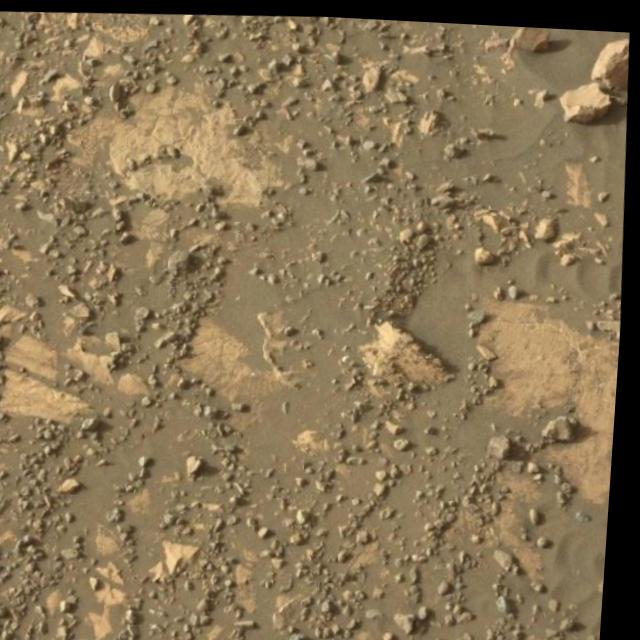mars-rocks: (562, 75, 613, 115), (592, 32, 629, 82)
